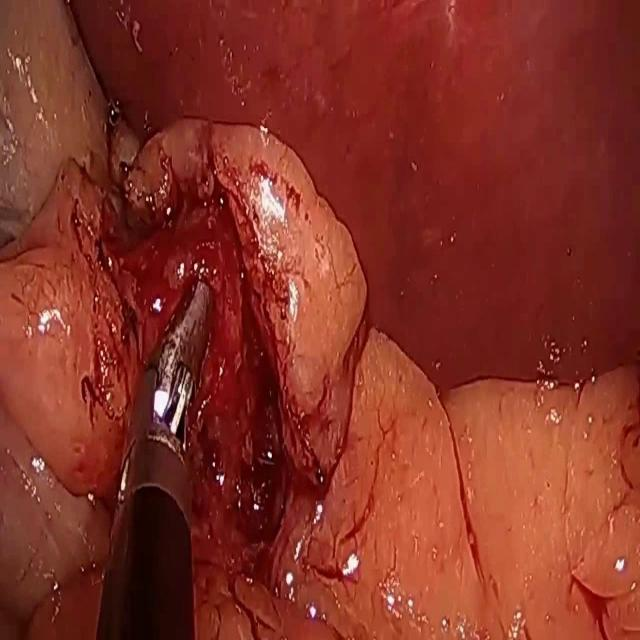surgical-area: (0, 0, 640, 639)
surgical-tool: (93, 278, 212, 639)
